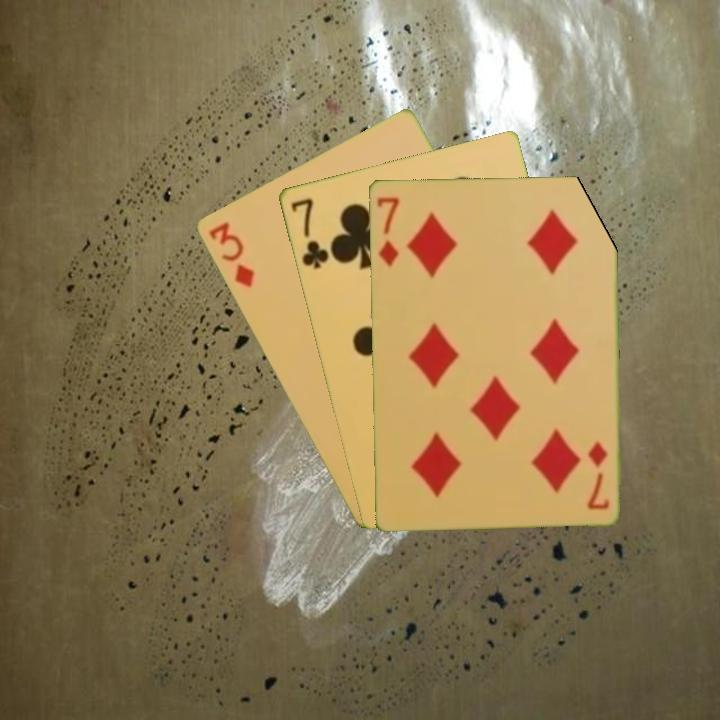3d: (205, 218, 257, 291)
7c: (287, 194, 332, 272)
7d: (583, 437, 612, 512), (373, 193, 401, 268)
